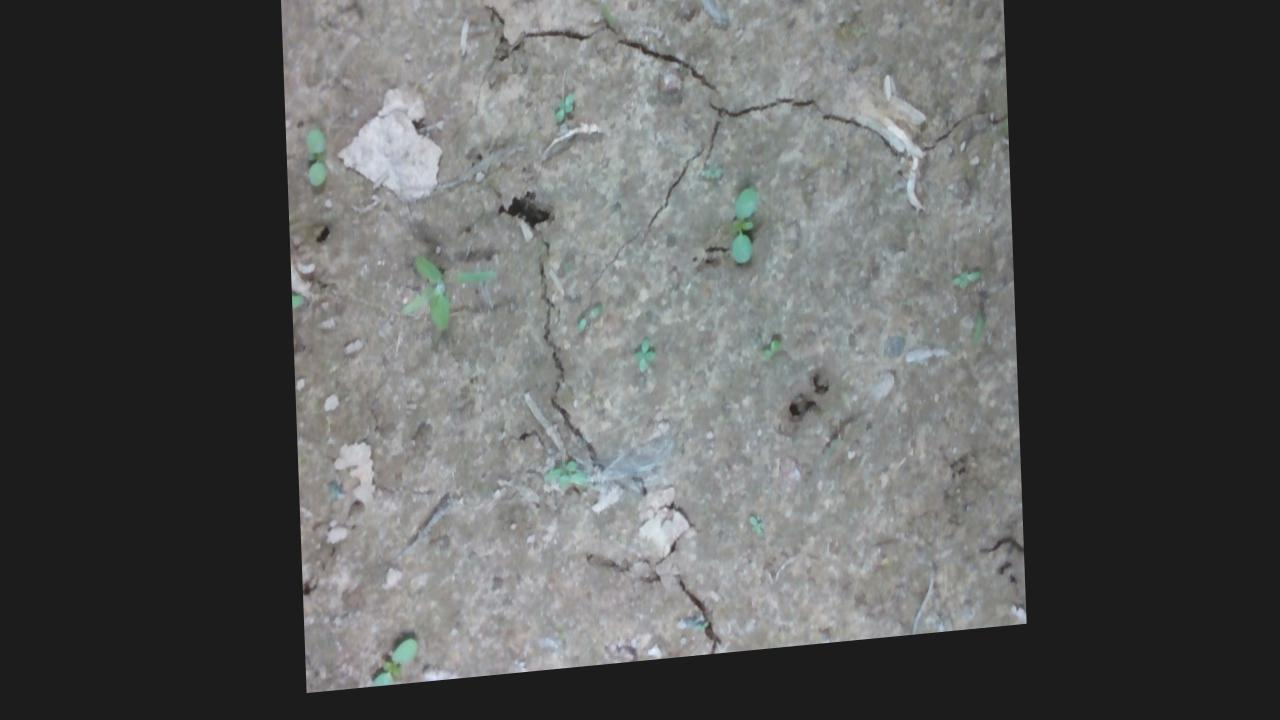weed: (394, 257, 500, 344), (716, 201, 764, 279), (362, 639, 421, 693), (542, 93, 577, 139), (620, 352, 661, 391), (301, 129, 325, 194), (749, 344, 783, 384), (738, 524, 770, 555)
